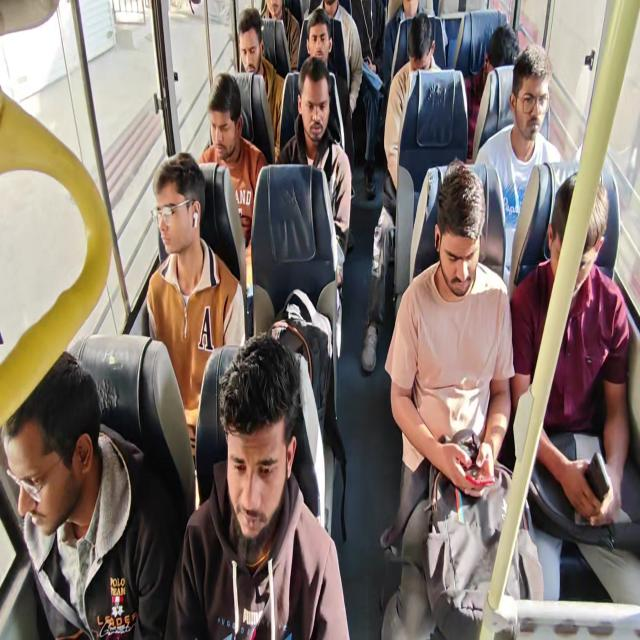person: (2, 1, 637, 638), (379, 158, 516, 638), (164, 333, 350, 639), (509, 170, 639, 605), (2, 350, 178, 638), (145, 151, 246, 471), (360, 12, 442, 372), (276, 55, 352, 355), (474, 43, 564, 285), (197, 72, 268, 250), (298, 7, 354, 198), (339, 0, 386, 199), (465, 24, 519, 158), (236, 6, 285, 153), (380, 0, 424, 125), (259, 0, 300, 73)
